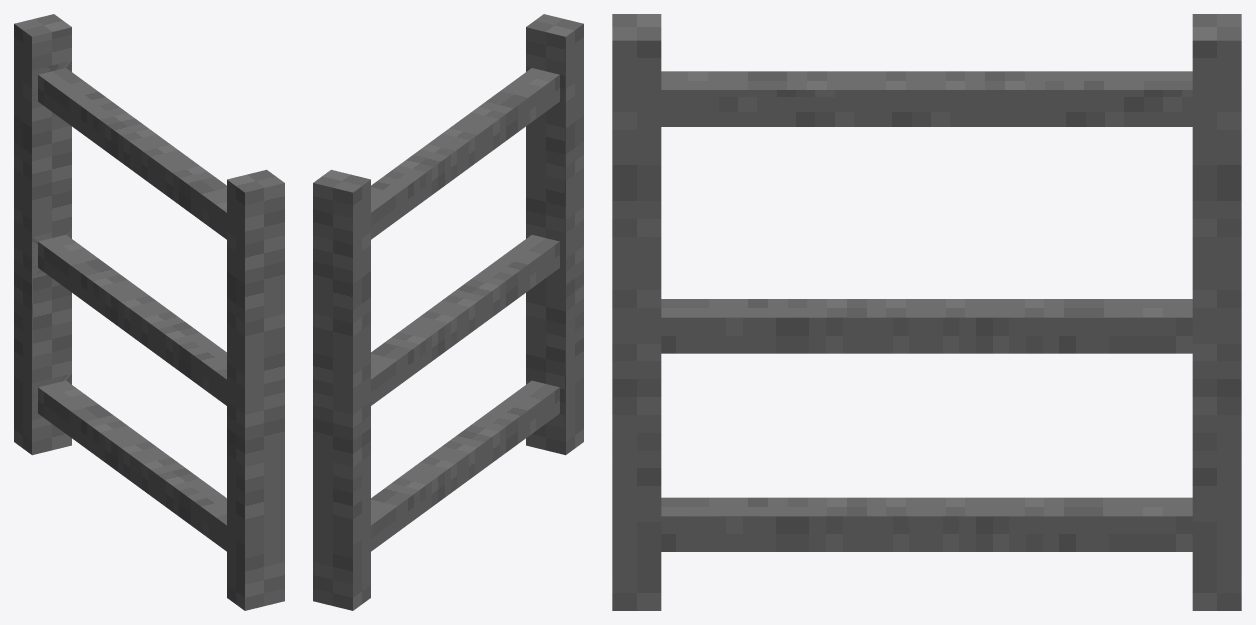
The model's file is ladder.obj.
The picture shows the model from 3 angles, left to right: view 1: azimuth 30°, elevation 25°; view 2: azimuth 150°, elevation 25°; view 3: azimuth 270°, elevation 25°; orthographic projection. The views are drawn at different scales.
Visible parts, largest first — view 1: Cube; view 2: Cube; view 3: Cube.
Part boxes in pixels (box(x1,y1,x2,y2)): Cube: box(14, 14, 284, 610); Cube: box(313, 14, 583, 610); Cube: box(612, 14, 1241, 610).
Size of the model in its own units: 0.1 by 1 by 1.
